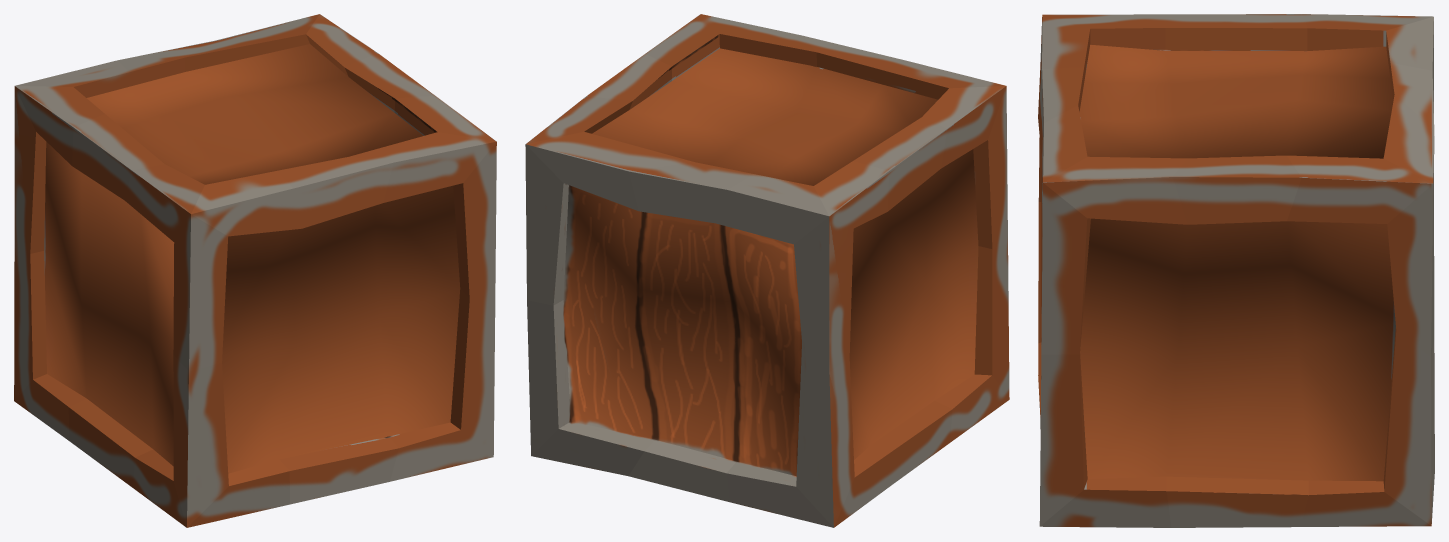
File: storage_crate.glb
3 views of the same model, side by side, from view 1: azimuth 30°, elevation 25°; view 2: azimuth 150°, elevation 25°; view 3: azimuth 270°, elevation 25° (orthographic). The views are drawn at different scales.
Parts seen in each view (by area): view 1: Cube; view 2: Cube; view 3: Cube.
Boxes of the visible parts, box(x1,y1,x2,y2) form: Cube: box(14, 14, 496, 527); Cube: box(525, 14, 1009, 527); Cube: box(1038, 14, 1434, 527).
Bounding box in the file's own units: 0.8 × 0.8 × 0.8.
Materials: 1 (1 with a texture image).
